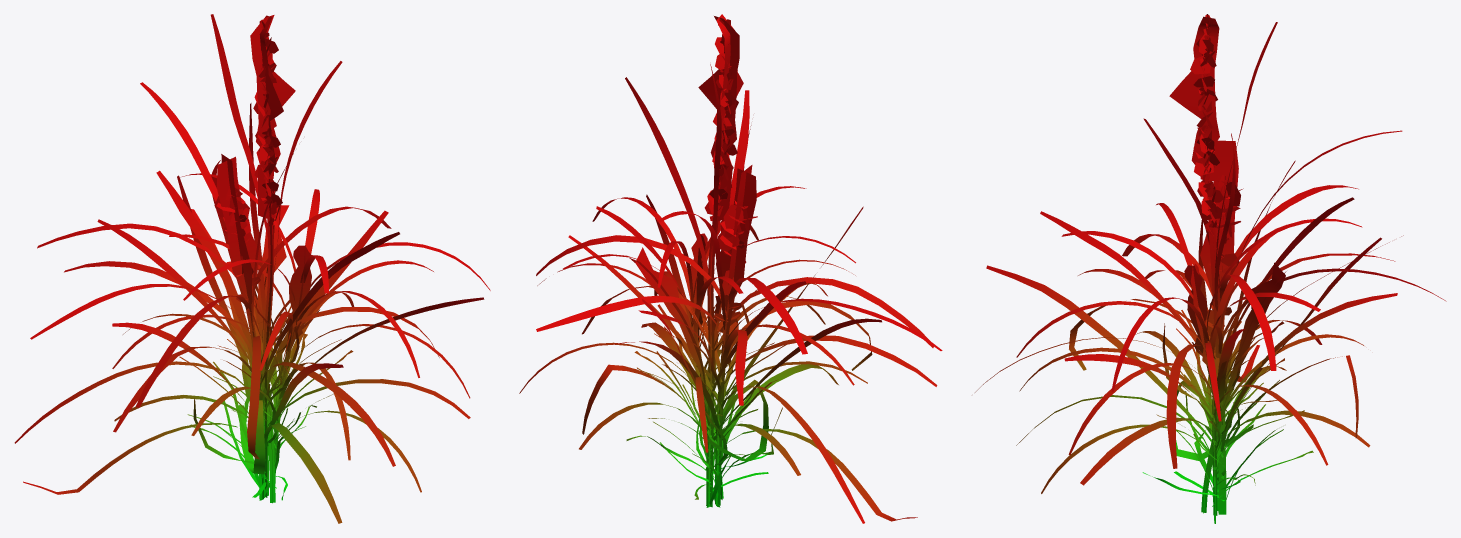
The model's file is Var3_LOD1.fbx.
The picture shows the model from 3 angles, left to right: view 1: azimuth 30°, elevation 25°; view 2: azimuth 150°, elevation 25°; view 3: azimuth 270°, elevation 25°; orthographic projection. The views are drawn at different scales.
Parts seen in each view (by area): view 1: _35a2_Var3_LOD1; view 2: _35a2_Var3_LOD1; view 3: _35a2_Var3_LOD1.
Boxes of the visible parts, box(x1,y1,x2,y2) form: _35a2_Var3_LOD1: box(14, 14, 490, 523); _35a2_Var3_LOD1: box(519, 14, 942, 523); _35a2_Var3_LOD1: box(975, 14, 1446, 523).
Bounding box in the file's own units: 33.67 × 38.81 × 33.3.
